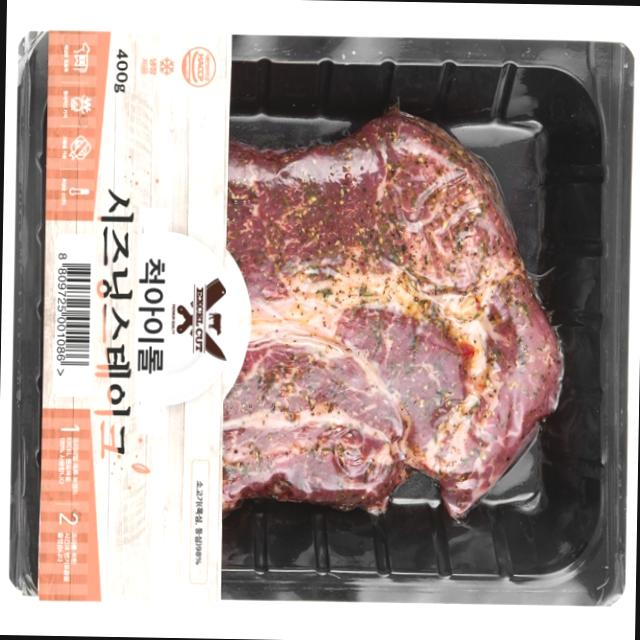beef: (228, 117, 566, 511)
